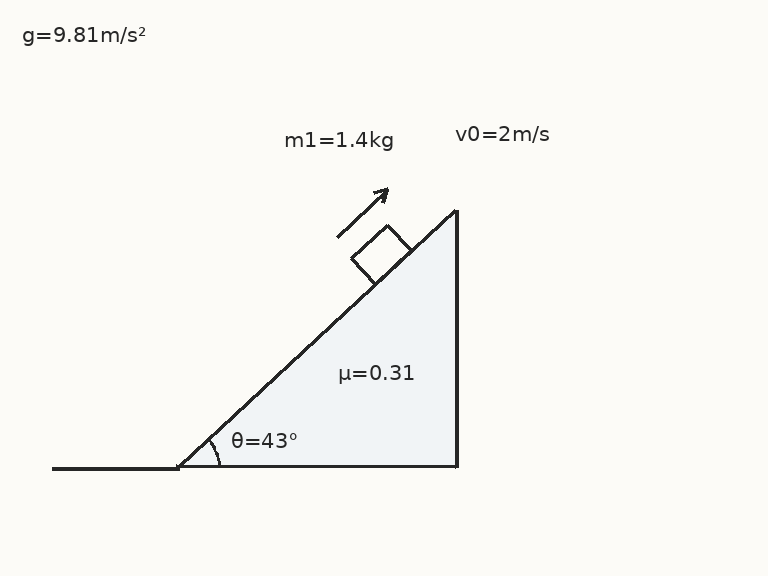block: (349, 222, 413, 286)
ramp: (177, 208, 457, 469)
